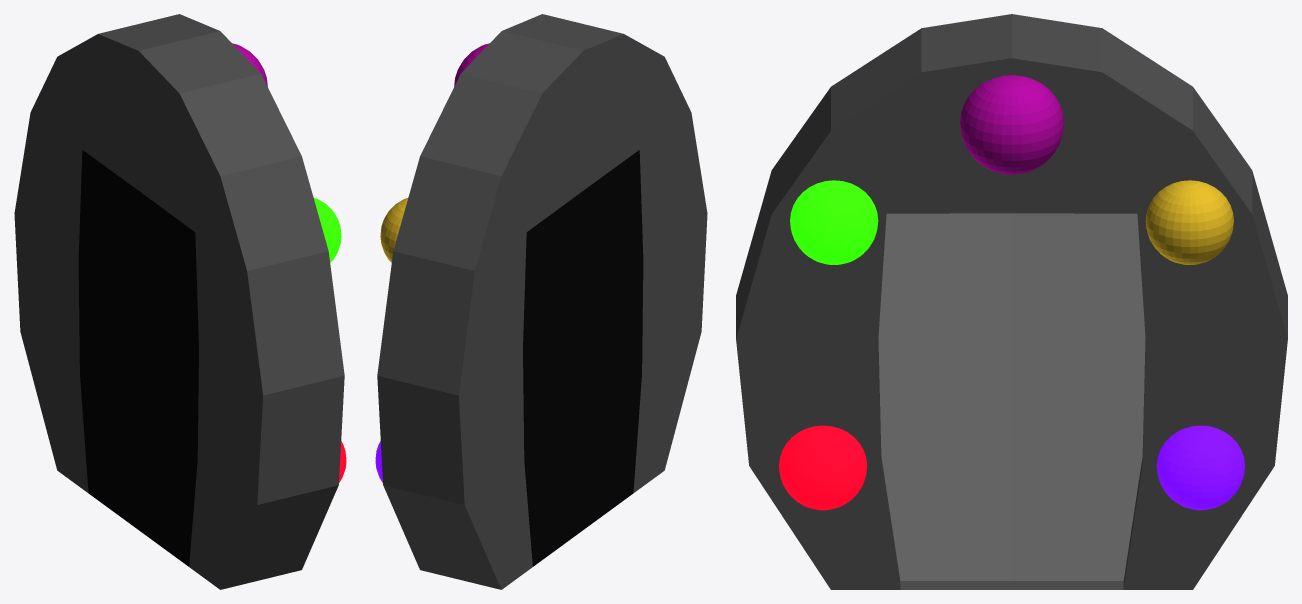
The model's file is 宝石扉(3光）.fbx.
3 renders of one model, left to right at view 1: azimuth 30°, elevation 25°; view 2: azimuth 150°, elevation 25°; view 3: azimuth 270°, elevation 25°, orthographic. The views are drawn at different scales.
Parts seen in each view (by area): view 1: Cube, Cube.004; view 2: Cube, Cube.001; view 3: Cube, Cube.007, Cube.006, Cube.002, Cube.001, Cube.004, Cube.003, Cube.005.
Part boxes in pixels (box(x1,y1,x2,y2)): Cube: box(14, 14, 344, 589); Cube.004: box(314, 198, 341, 262); Cube: box(377, 14, 707, 589); Cube.001: box(380, 198, 407, 262); Cube: box(736, 14, 1287, 589); Cube.007: box(878, 213, 1014, 580); Cube.006: box(1013, 213, 1145, 580); Cube.002: box(960, 75, 1063, 174); Cube.001: box(1145, 180, 1233, 264); Cube.004: box(790, 180, 878, 264); Cube.003: box(779, 425, 867, 510); Cube.005: box(1156, 425, 1244, 510).
Size of the model in its own units: 260 by 969 by 912.
